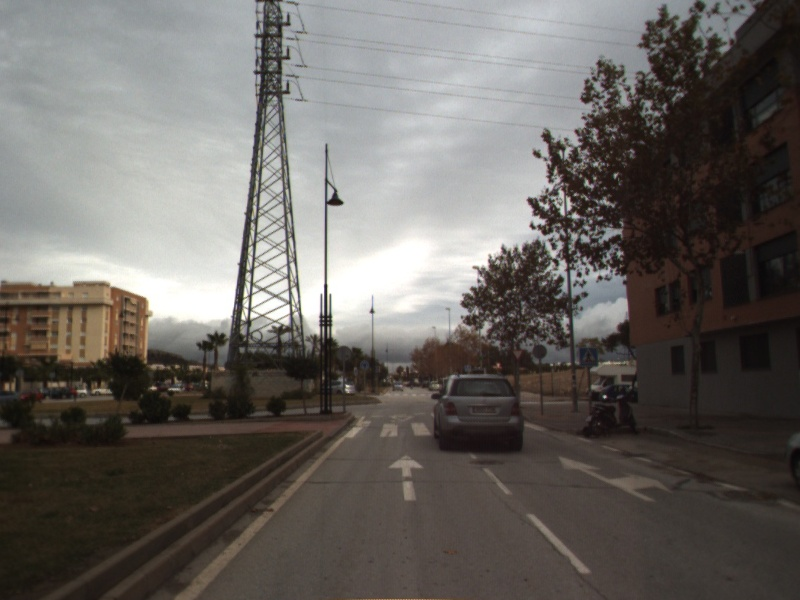STRAIGHT: (386, 453, 427, 503)
STRAIGHT_RIGHT: (556, 454, 677, 504)
